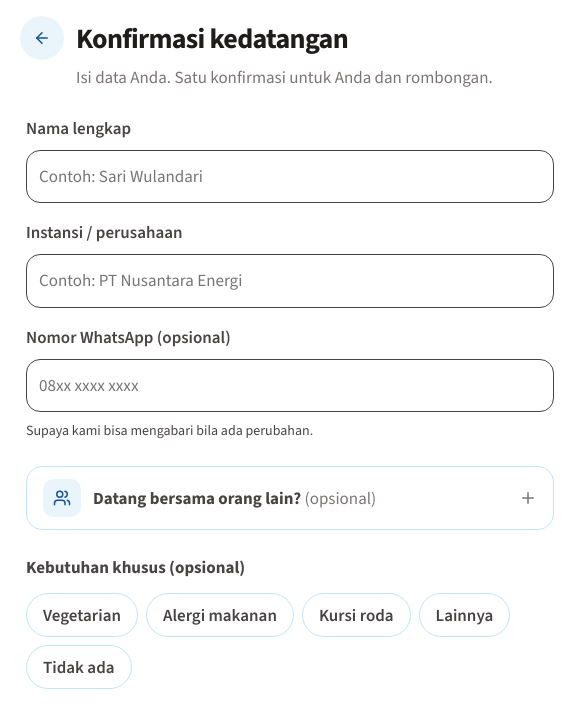
Test: confirms a party on one screen through the general link, then shows what was confirmed
The image size is (581, 715).
Check: the heading "Konfirmasi kedatangan" is shown, box [76, 20, 348, 57]
In the field labelled "Nama lengkap": [290, 177] box [26, 150, 554, 203], type "Budi Santoso"
In the field labelled "Instansi / perusahaan": [290, 281] box [26, 254, 554, 308], type "PT Contoh"
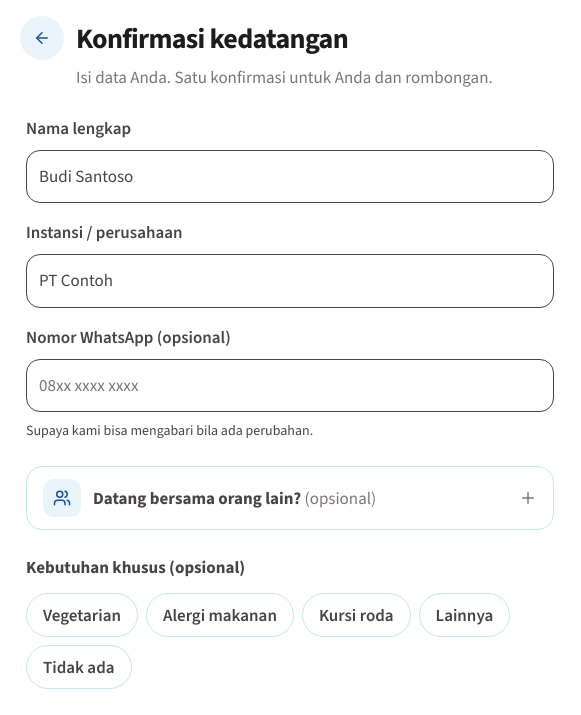
Click the button "Datang bersama orang lain? (opsional)": [290, 498] box [27, 467, 553, 529]
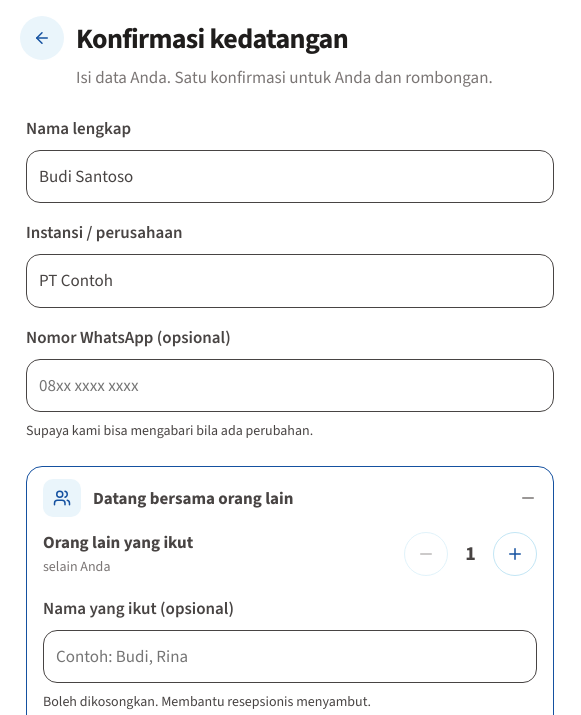
Click the button named "Tambah satu orang": [515, 554] box [493, 532, 537, 576]
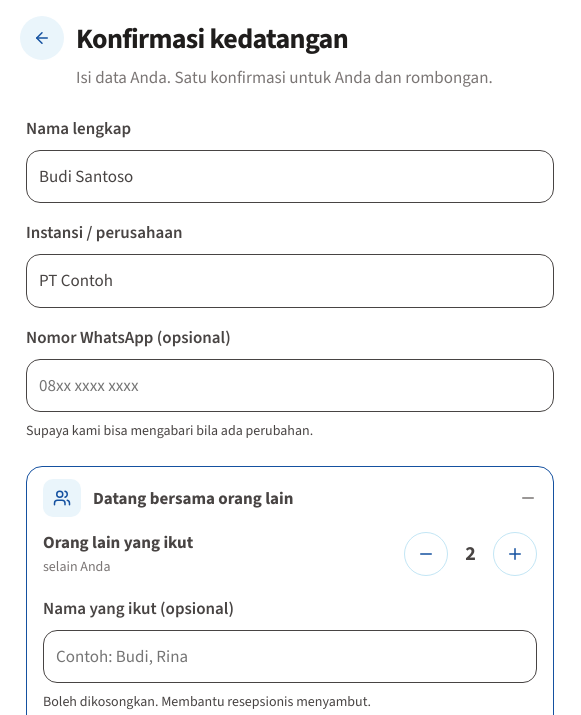
In the field labelled "Nama yang ikut (opsional)": [290, 657] box [43, 630, 537, 683], type "Rina, Tono"
(page scrolled)
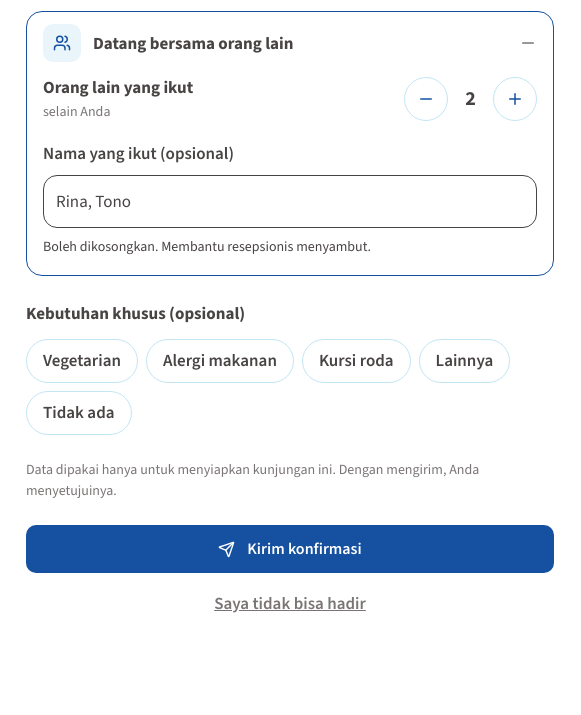
Click the checkbox labelled "Vegetarian": [82, 361] box [26, 339, 138, 383]
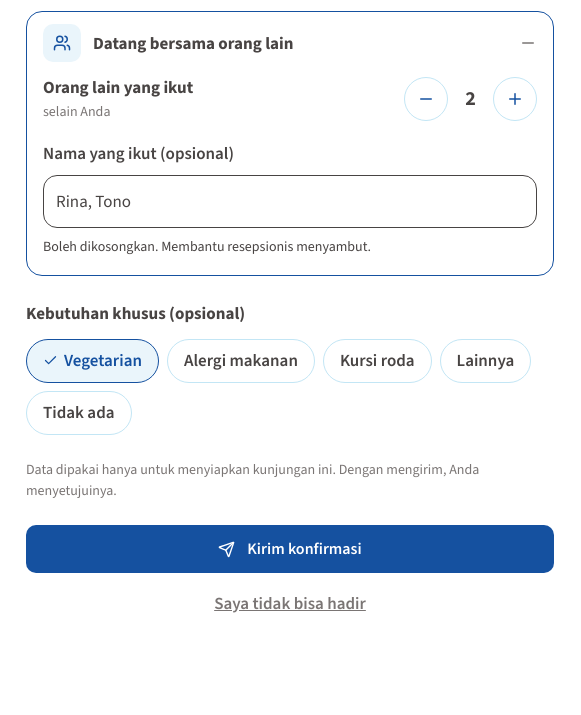
Click the button "Kirim konfirmasi": [290, 549] box [26, 525, 554, 573]
(page scrolled)
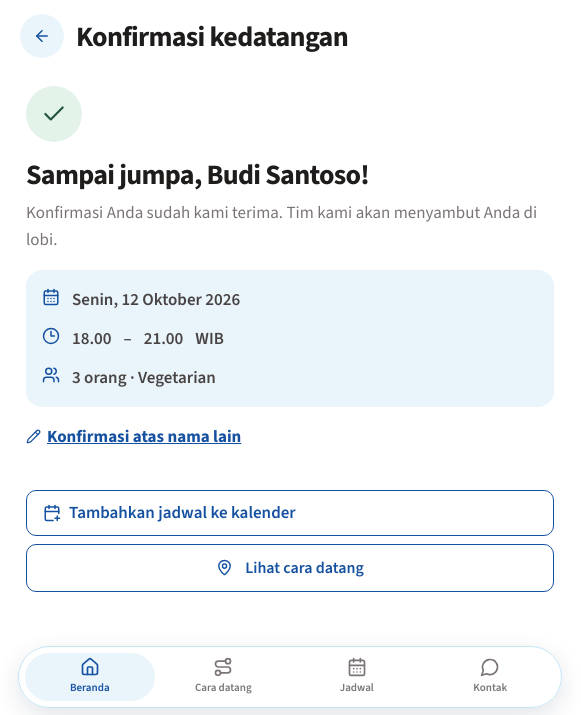
Check: the heading "Sampai jumpa, Budi Santoso!" is shown, box [26, 156, 369, 193]
Check: the list item "3 orang · Vegetarian" is shown, box [42, 366, 216, 389]
